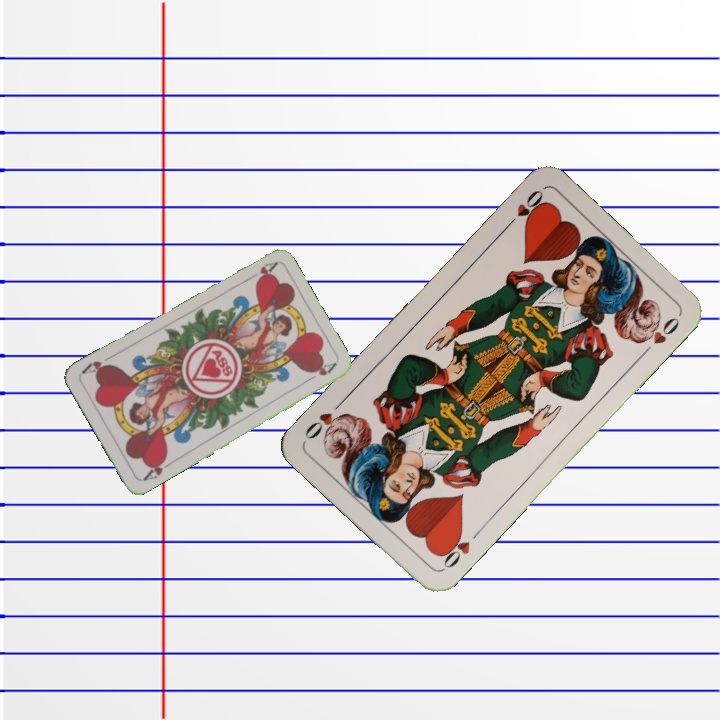HA: (139, 453, 175, 483), (241, 258, 279, 284)
HO: (435, 525, 484, 573), (500, 185, 547, 233)
